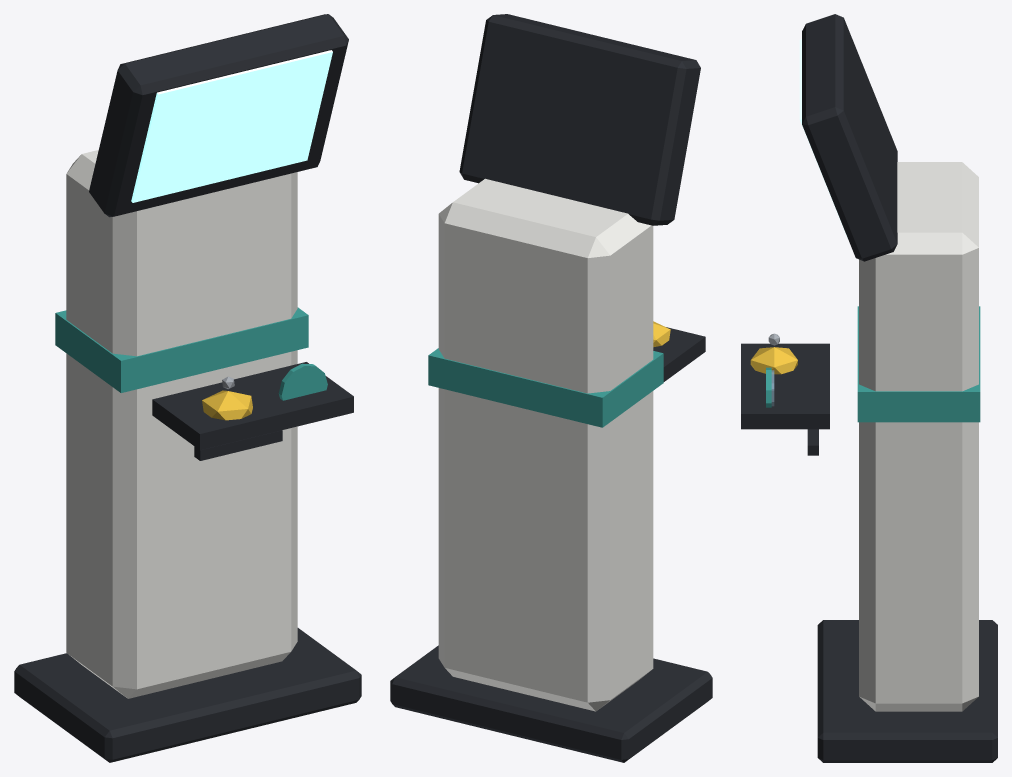
Rendered from selfservice_p0_3.glb.
The picture shows the model from 3 angles, left to right: view 1: azimuth 30°, elevation 25°; view 2: azimuth 150°, elevation 25°; view 3: azimuth 270°, elevation 25°; orthographic projection. The views are drawn at different scales.
Visible parts, largest first — view 1: selfservice_p0_3_mesh; view 2: selfservice_p0_3_mesh; view 3: selfservice_p0_3_mesh.
Boxes of the visible parts, <box> form: selfservice_p0_3_mesh: <box>14,14,361,762</box>; selfservice_p0_3_mesh: <box>390,14,712,762</box>; selfservice_p0_3_mesh: <box>741,14,997,762</box>.
Bounding box in the file's own units: 0.5 × 1.28 × 0.462.
